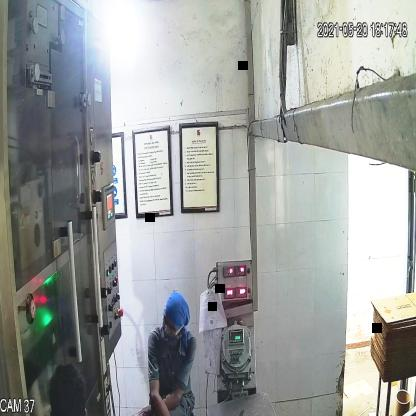goggles: (160, 312, 185, 339)
